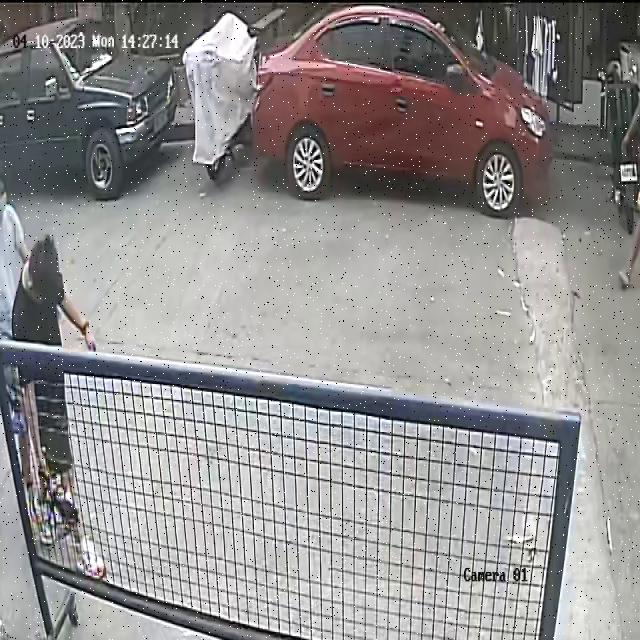human: (13, 238, 106, 584), (0, 164, 38, 524)
trash: (32, 443, 78, 544), (6, 372, 31, 436)
